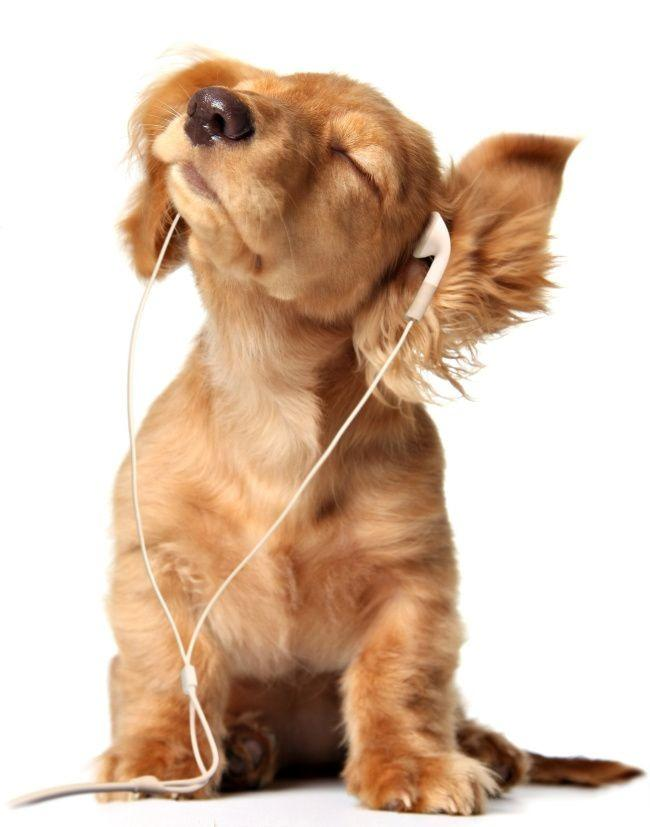puppy-dog: (88, 39, 647, 818)
